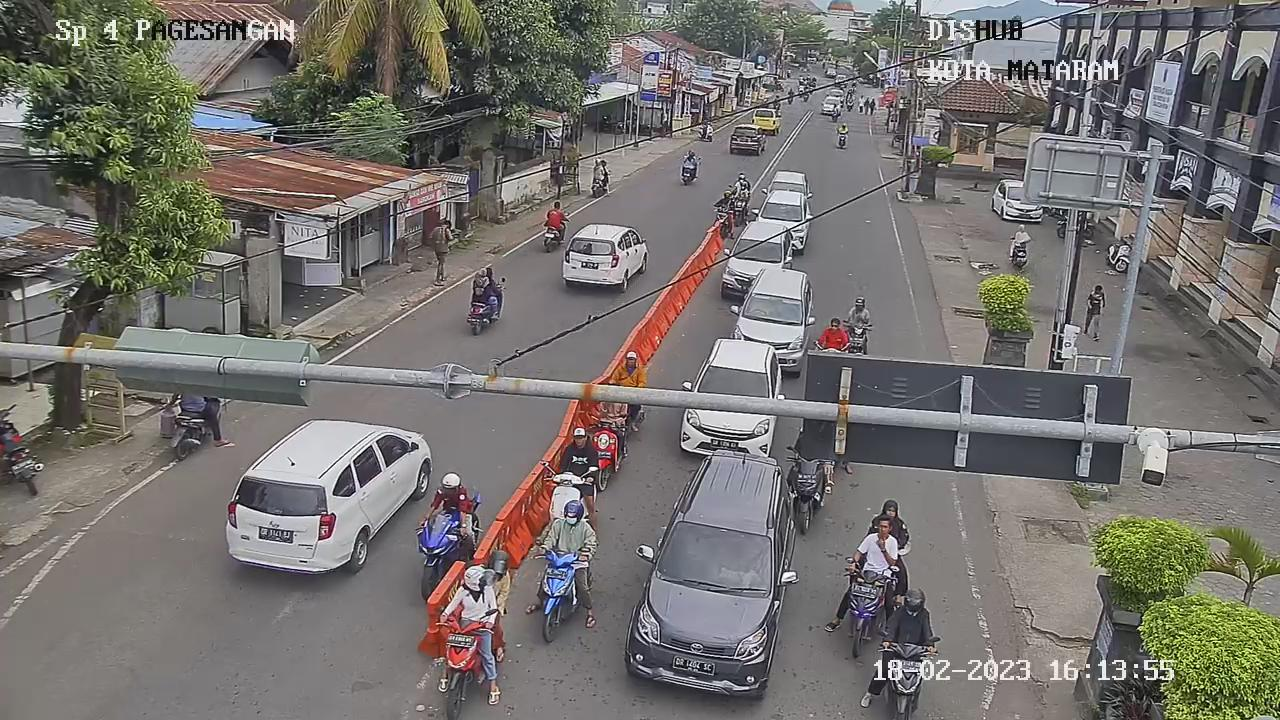car: (620, 445, 803, 704), (220, 418, 438, 574), (673, 330, 794, 471), (727, 267, 814, 348), (723, 219, 796, 302), (561, 224, 648, 293), (755, 190, 814, 250), (762, 167, 811, 199), (729, 124, 767, 154), (750, 105, 783, 131)
motorbike: (427, 607, 501, 720), (838, 553, 902, 658), (523, 538, 586, 640), (410, 513, 467, 598), (780, 446, 835, 530), (536, 455, 592, 534), (585, 416, 624, 492), (840, 318, 872, 357), (1108, 242, 1135, 277), (713, 205, 735, 237), (728, 194, 749, 224), (833, 129, 850, 149)
person: (878, 580, 943, 660), (438, 560, 501, 632), (539, 497, 599, 564), (421, 468, 473, 533), (852, 517, 904, 578), (550, 425, 601, 483), (608, 347, 651, 394), (467, 261, 499, 308), (840, 295, 873, 333), (542, 206, 571, 248), (1084, 287, 1108, 336), (818, 322, 851, 352), (713, 188, 736, 215), (680, 148, 700, 169), (732, 182, 751, 203), (835, 121, 851, 139)
